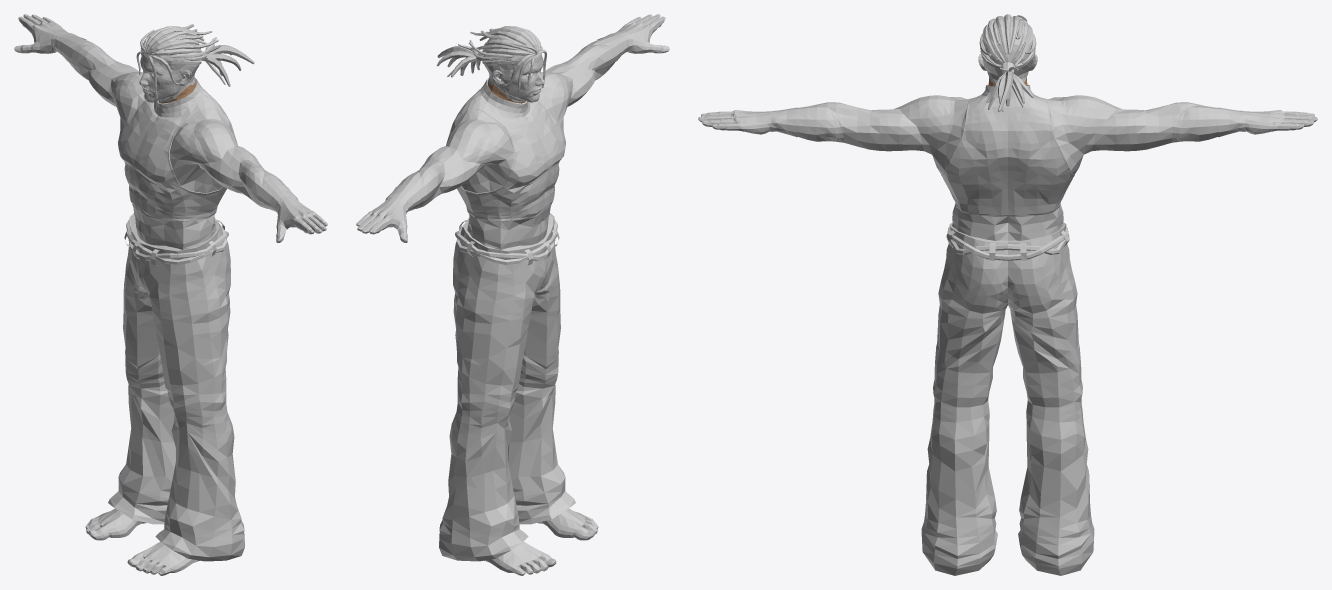
File: ZDZX8I1VLPXSATTXMICG95PUB.fbx
The picture shows the model from 3 angles, left to right: view 1: azimuth 30°, elevation 25°; view 2: azimuth 150°, elevation 25°; view 3: azimuth 270°, elevation 25°; orthographic projection. The views are drawn at different scales.
Visible parts, largest first — view 1: Object_ModelPantsInner_Material010, Object_ModelPants_Material011, Object_ModelArms_Material002, Object_ModelTop_Material014, Object_ModelHair_Material019, Object_ModelHands_Material006, Object_ModelFeet_Material004, Object_ModelTorso_Material015, Object_ModelTop_Logo_Material022, Object_ModelPants_Stringnner_Material0, Object_ModelFace_Material003, Object_ModelArm_Bandage_Material001 (+1 smaller); view 2: Object_ModelPantsInner_Material010, Object_ModelPants_Material011, Object_ModelArms_Material002, Object_ModelTop_Material014, Object_ModelHair_Material019, Object_ModelHands_Material006, Object_ModelFeet_Material004, Object_ModelTorso_Material015, Object_ModelTop_Logo_Material022, Object_ModelPants_Stringnner_Material0, Object_ModelFace_Material003, Object_ModelArm_Bandage_Material001 (+1 smaller); view 3: Object_ModelPantsInner_Material010, Object_ModelArms_Material002, Object_ModelPants_Material011, Object_ModelTop_Material014, Object_ModelHair_Material019, Object_ModelHands_Material006, Object_ModelTorso_Material015, Object_ModelPants_Stringnner_Material0, Object_ModelArm_Bandage_Material001, Object_ModelHair_Base_Material017.
Boxes of the visible parts, x1,y1,x2,y2 form: Object_ModelPantsInner_Material010: [108, 213, 244, 561]; Object_ModelPants_Material011: [108, 213, 244, 561]; Object_ModelArms_Material002: [62, 37, 286, 212]; Object_ModelTop_Material014: [118, 78, 235, 221]; Object_ModelHair_Material019: [140, 24, 254, 99]; Object_ModelHands_Material006: [14, 14, 327, 242]; Object_ModelFeet_Material004: [85, 508, 199, 575]; Object_ModelTorso_Material015: [133, 109, 232, 249]; Object_ModelTop_Logo_Material022: [119, 116, 170, 170]; Object_ModelPants_Stringnner_Material0: [126, 218, 228, 264]; Object_ModelFace_Material003: [139, 55, 192, 102]; Object_ModelArm_Bandage_Material001: [51, 32, 298, 214]; Object_ModelPantsInner_Material010: [439, 213, 575, 561]; Object_ModelPants_Material011: [439, 213, 573, 560]; Object_ModelArms_Material002: [397, 37, 621, 209]; Object_ModelTop_Material014: [448, 78, 565, 221]; Object_ModelHair_Material019: [436, 26, 546, 92]; Object_ModelHands_Material006: [356, 14, 669, 242]; Object_ModelFeet_Material004: [484, 508, 598, 575]; Object_ModelTorso_Material015: [451, 109, 550, 249]; Object_ModelTop_Logo_Material022: [513, 116, 564, 170]; Object_ModelPants_Stringnner_Material0: [455, 218, 557, 264]; Object_ModelFace_Material003: [491, 55, 544, 102]; Object_ModelArm_Bandage_Material001: [385, 32, 632, 214]; Object_ModelPantsInner_Material010: [921, 222, 1094, 575]; Object_ModelArms_Material002: [797, 95, 1218, 174]; Object_ModelPants_Material011: [922, 224, 1093, 575]; Object_ModelTop_Material014: [941, 84, 1074, 216]; Object_ModelHair_Material019: [979, 14, 1036, 111]; Object_ModelHands_Material006: [698, 110, 1317, 134]; Object_ModelTorso_Material015: [952, 108, 1063, 240]; Object_ModelPants_Stringnner_Material0: [946, 227, 1069, 260]; Object_ModelArm_Bandage_Material001: [770, 107, 1245, 137]; Object_ModelHair_Base_Material017: [982, 17, 1033, 83].
Size of the model in its own units: 0.6896 by 2.38 by 2.5.
